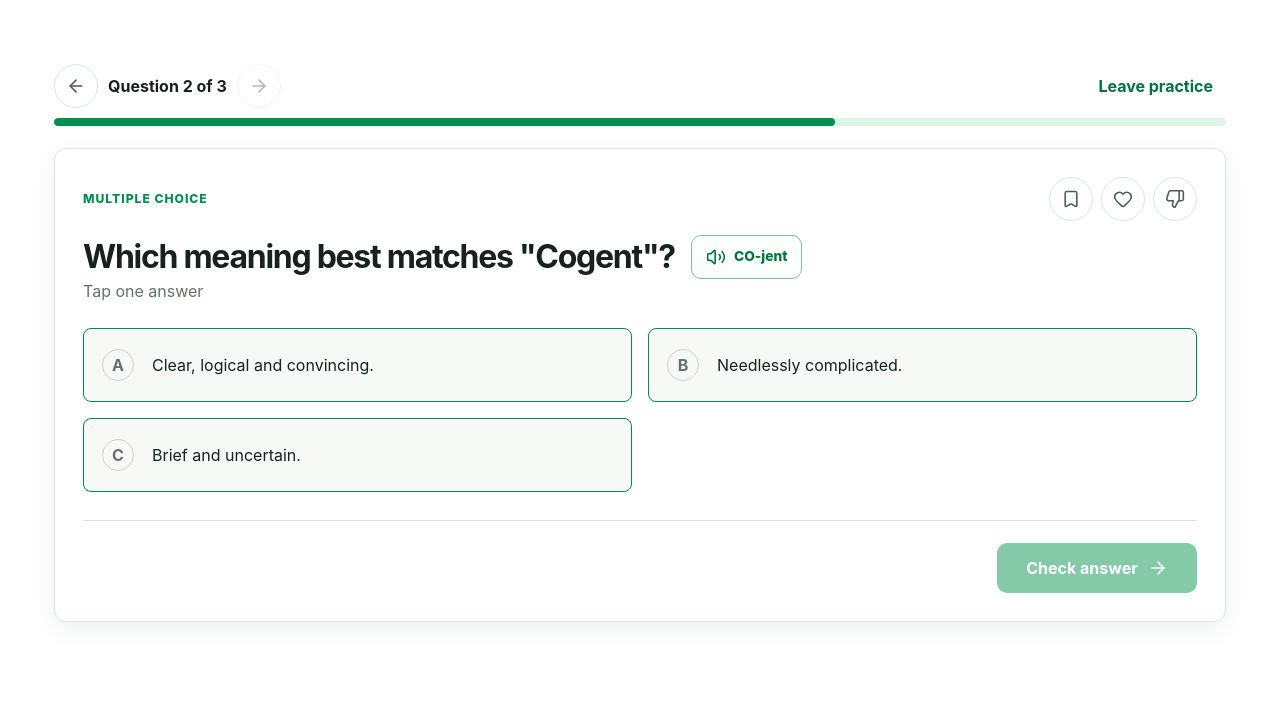
Test case: PracticePage locked answer review › keeps collection, favourite, dislike and read-aloud controls available in review
Expected: the heading "Which meaning best matches \"Cogent\"?" is shown, 83,238 -> 675,276
Click the button "A Clear, logical and convincing." at (358, 365), box 83,328 -> 632,402
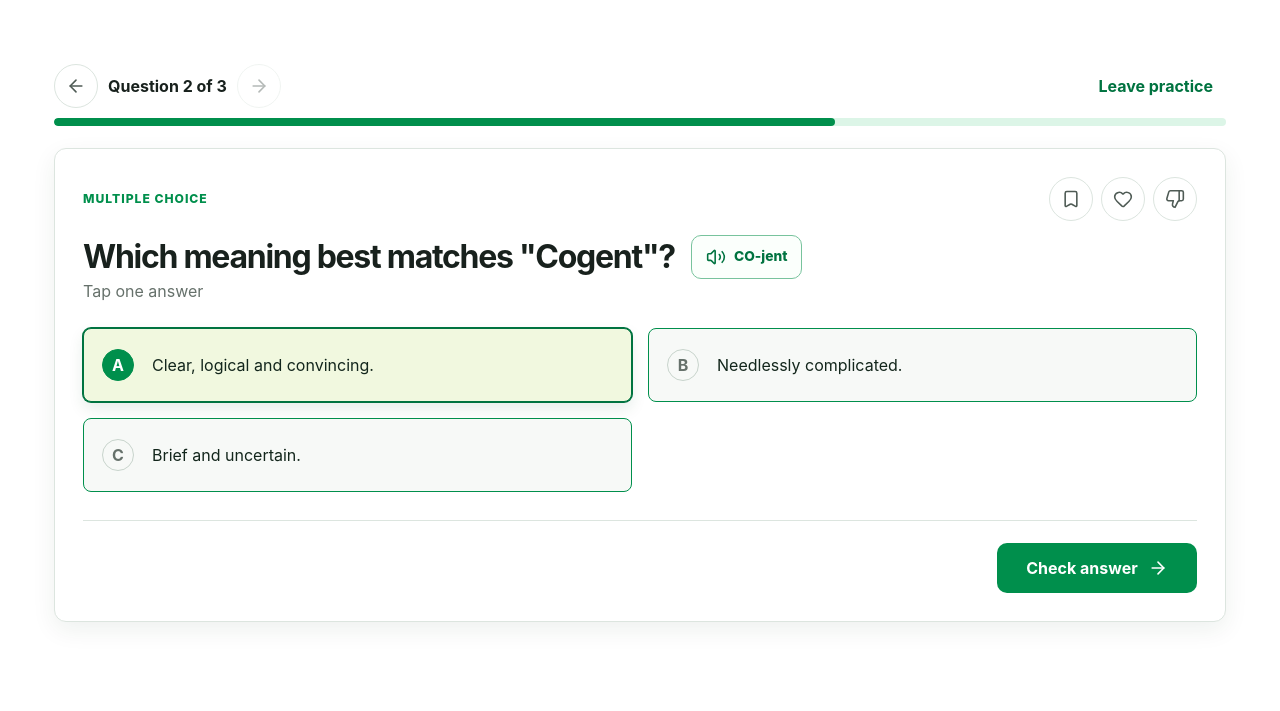
Now the button "A Clear, logical and convincing." has class "is-selected", box 83,328 -> 632,402
Click the button named "Previous question" at (76, 86), box 54,64 -> 98,108
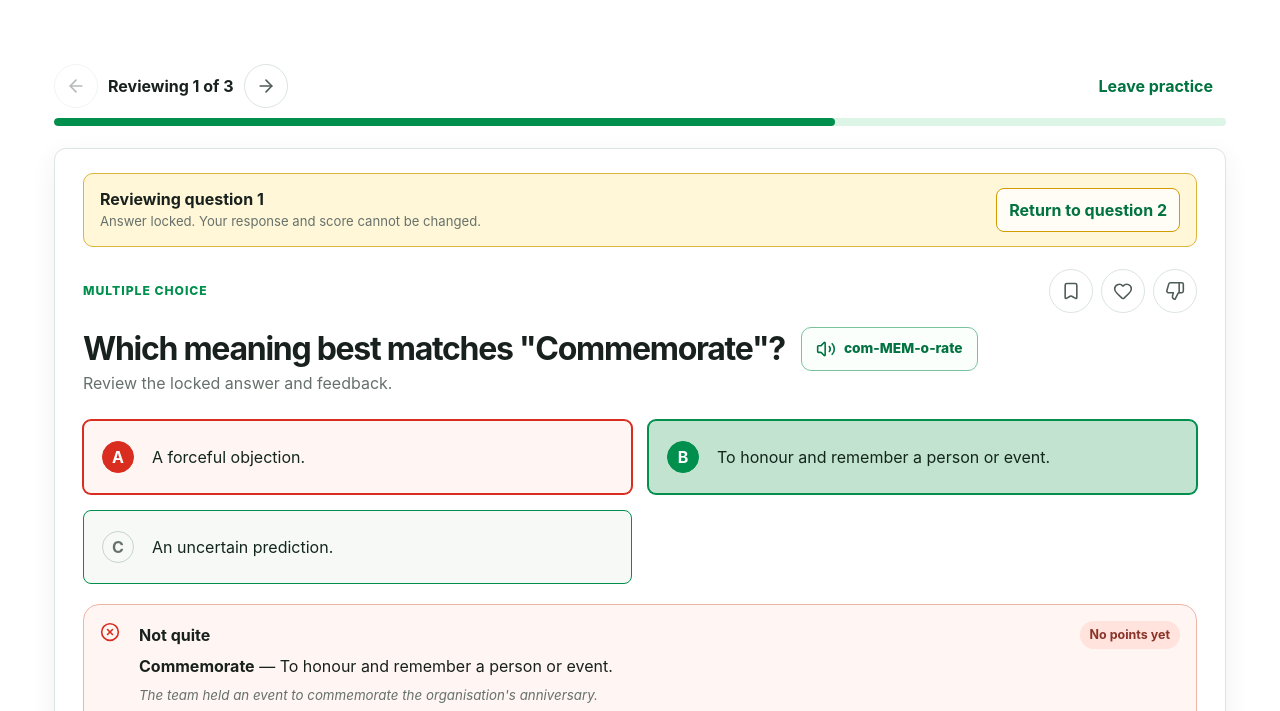
Expected: the button named "Add to My Collection" is enabled, 1049,269 -> 1093,313
Now the text "Answer locked. Your response and score cannot be changed." is shown, box 100,212 -> 481,231
